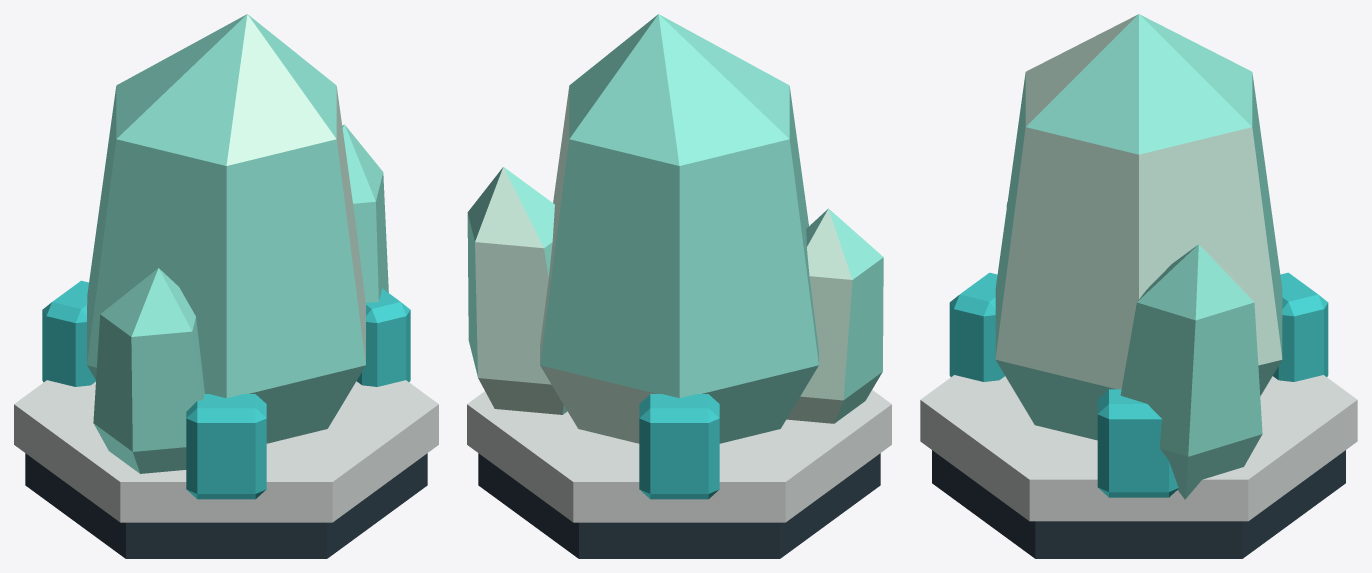
Rendered from SM_EchoGlass.fbx.
The picture shows the model from 3 angles, left to right: view 1: azimuth 30°, elevation 25°; view 2: azimuth 150°, elevation 25°; view 3: azimuth 270°, elevation 25°; orthographic projection. The views are drawn at different scales.
Parts seen in each view (by area): view 1: SM_EchoGlass; view 2: SM_EchoGlass; view 3: SM_EchoGlass.
Part boxes in pixels (x1=…): SM_EchoGlass: x1=14, y1=14, x2=438, y2=558; SM_EchoGlass: x1=467, y1=14, x2=891, y2=558; SM_EchoGlass: x1=920, y1=14, x2=1357, y2=558.
Size of what is drawn, in the model's own units: 17.88 by 19 by 23.
